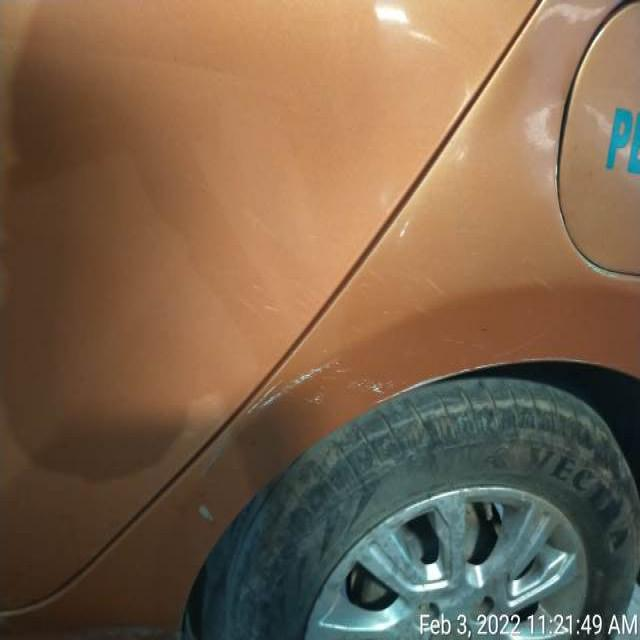damage: (241, 351, 393, 417)
